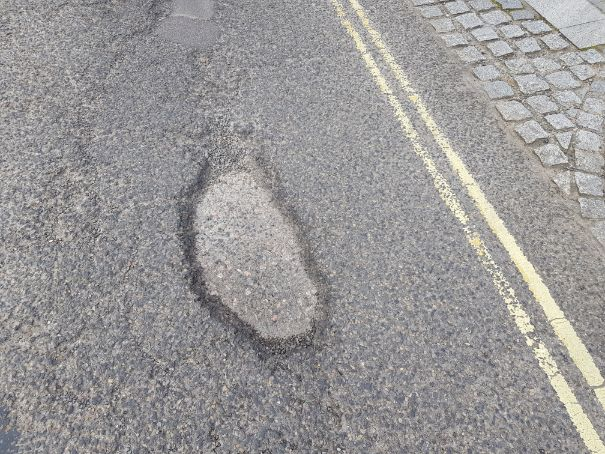pothole: (172, 115, 338, 363)
